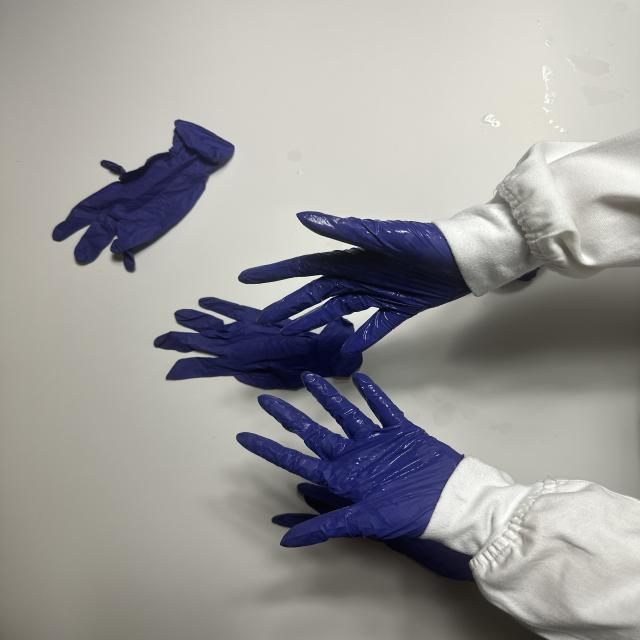gloves_contaminated: (237, 372, 462, 547), (239, 212, 470, 356)
